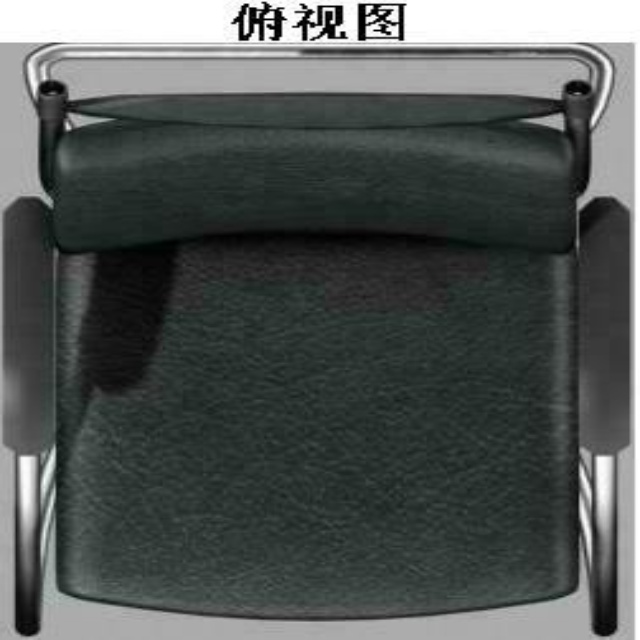obstacle: (3, 44, 630, 638)
